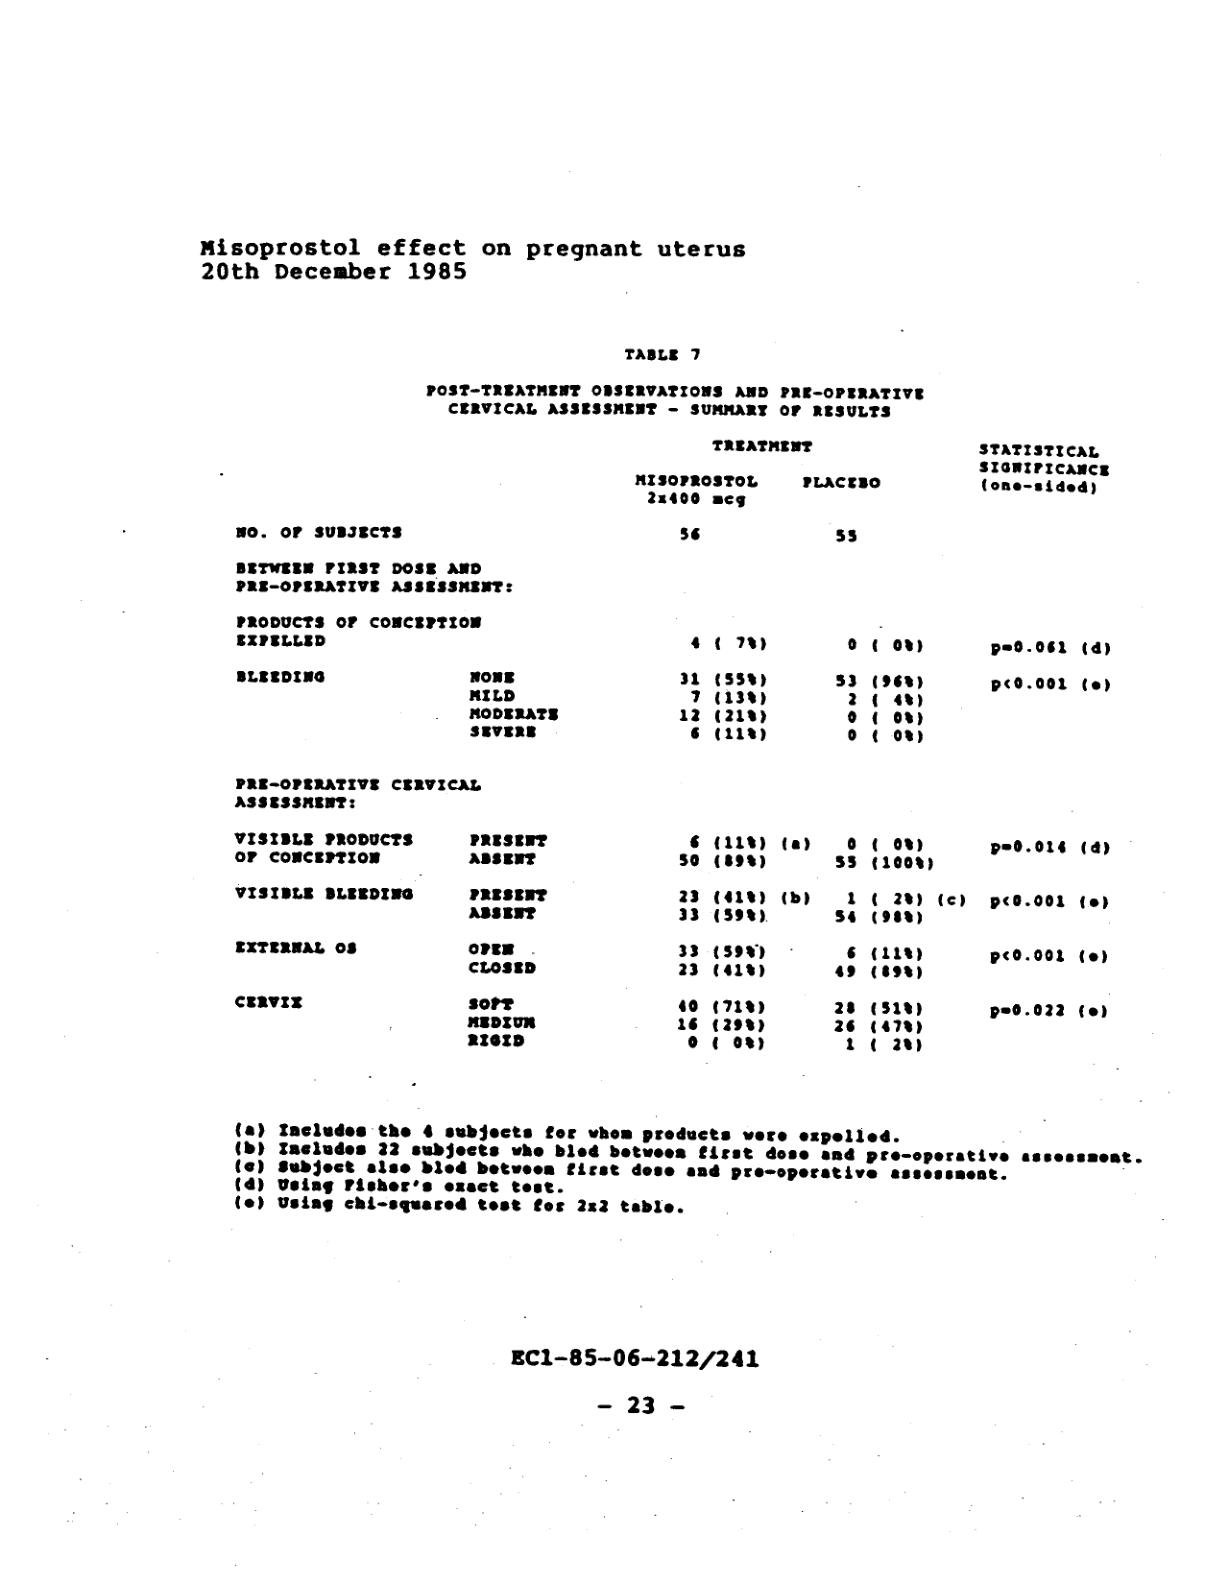nolines: (234, 438, 1111, 1050)
